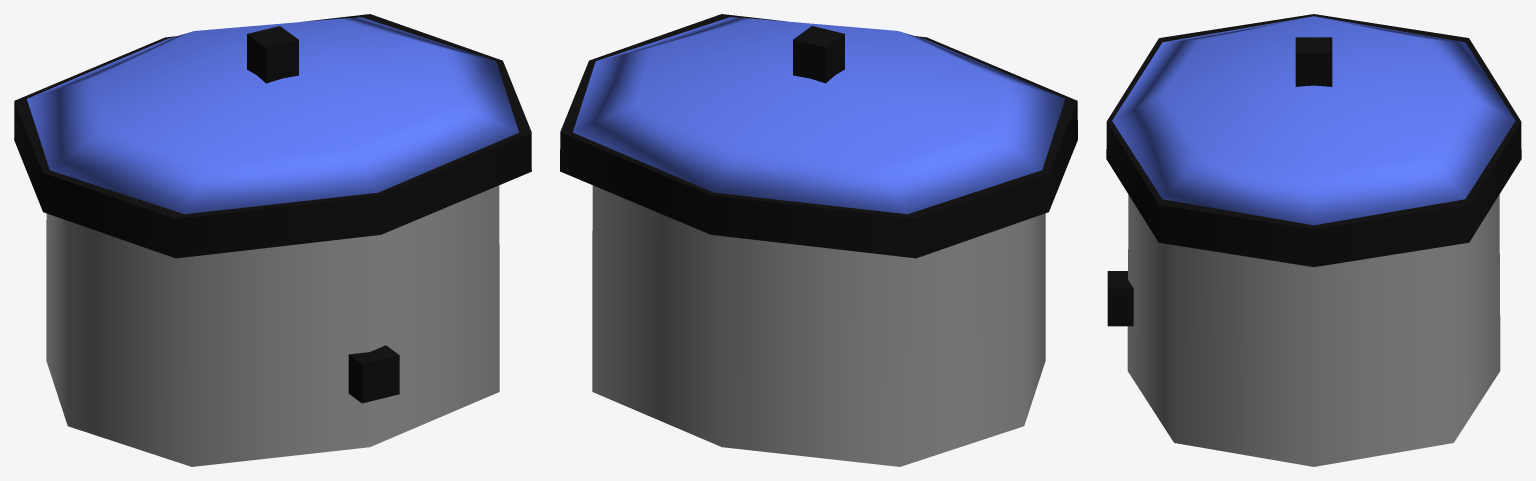
The model's file is House_Kitchen_Goodies_CrockPot.FBX.
3 views of the same model, side by side, from view 1: azimuth 30°, elevation 25°; view 2: azimuth 150°, elevation 25°; view 3: azimuth 270°, elevation 25° (orthographic). The views are drawn at different scales.
Parts seen in each view (by area): view 1: House_Kitchen_Goodies_CrockPot_outer, House_Kitchen_Goodies_CrockPot_lid, House_Kitchen_Goodies_CrockPot_inner; view 2: House_Kitchen_Goodies_CrockPot_outer, House_Kitchen_Goodies_CrockPot_lid, House_Kitchen_Goodies_CrockPot_inner; view 3: House_Kitchen_Goodies_CrockPot_outer, House_Kitchen_Goodies_CrockPot_lid, House_Kitchen_Goodies_CrockPot_inner.
Boxes of the visible parts, x1,y1,x2,y2 form: House_Kitchen_Goodies_CrockPot_outer: (46, 185, 499, 466); House_Kitchen_Goodies_CrockPot_lid: (27, 17, 518, 214); House_Kitchen_Goodies_CrockPot_inner: (14, 14, 531, 258); House_Kitchen_Goodies_CrockPot_outer: (592, 185, 1045, 466); House_Kitchen_Goodies_CrockPot_lid: (573, 17, 1064, 214); House_Kitchen_Goodies_CrockPot_inner: (560, 14, 1077, 258); House_Kitchen_Goodies_CrockPot_outer: (1107, 194, 1500, 466); House_Kitchen_Goodies_CrockPot_lid: (1112, 16, 1515, 225); House_Kitchen_Goodies_CrockPot_inner: (1106, 14, 1521, 267).
Bounding box in the file's own units: 97.87 × 68.97 × 79.67.
